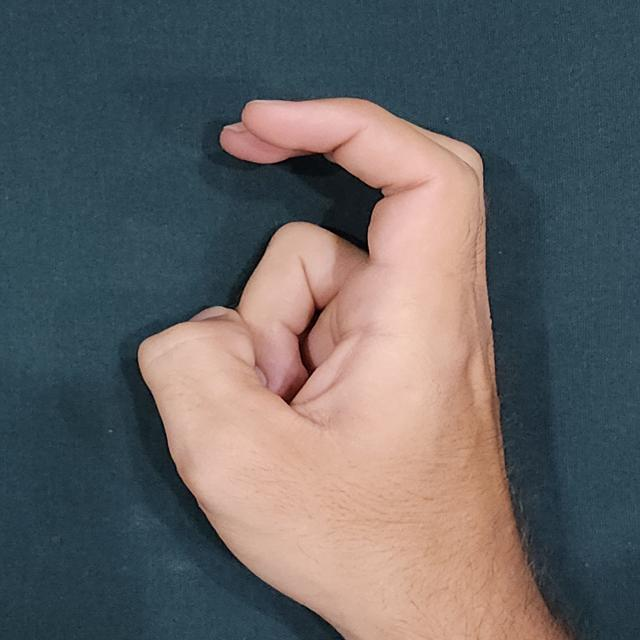ا: (121, 83, 581, 640)
